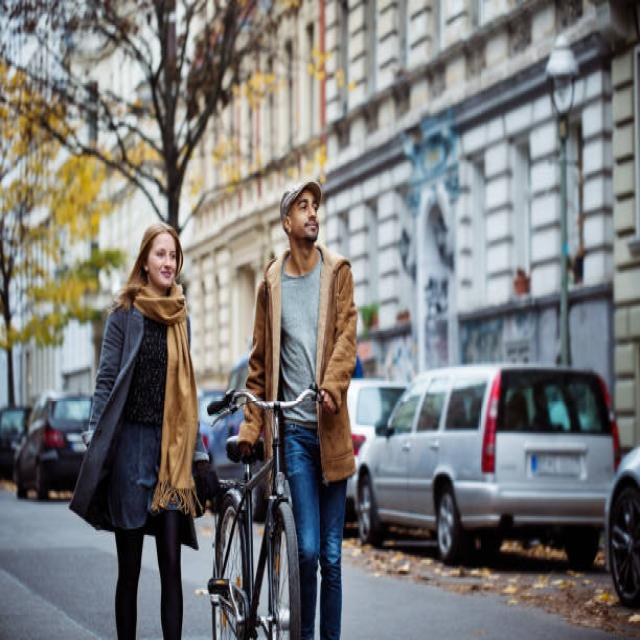bicycle: (209, 180, 356, 639)
